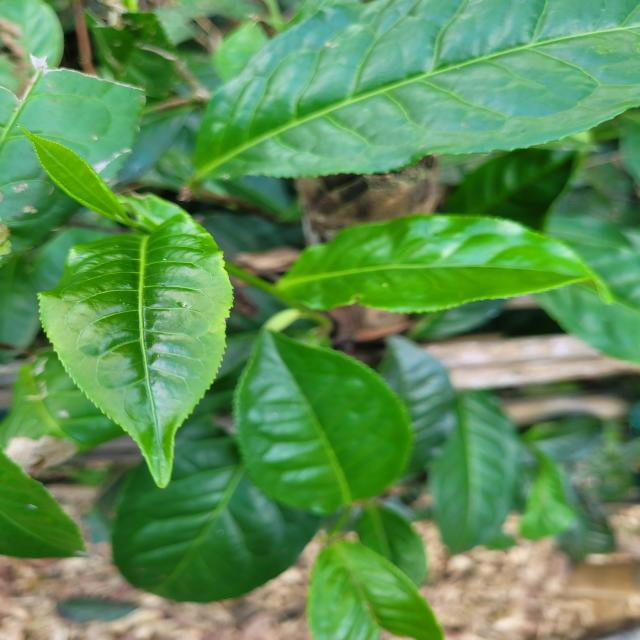Category D(7+ days, Not for Tea): (233, 319, 418, 525)
